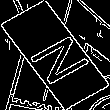N_NE: (17, 25, 93, 85)
